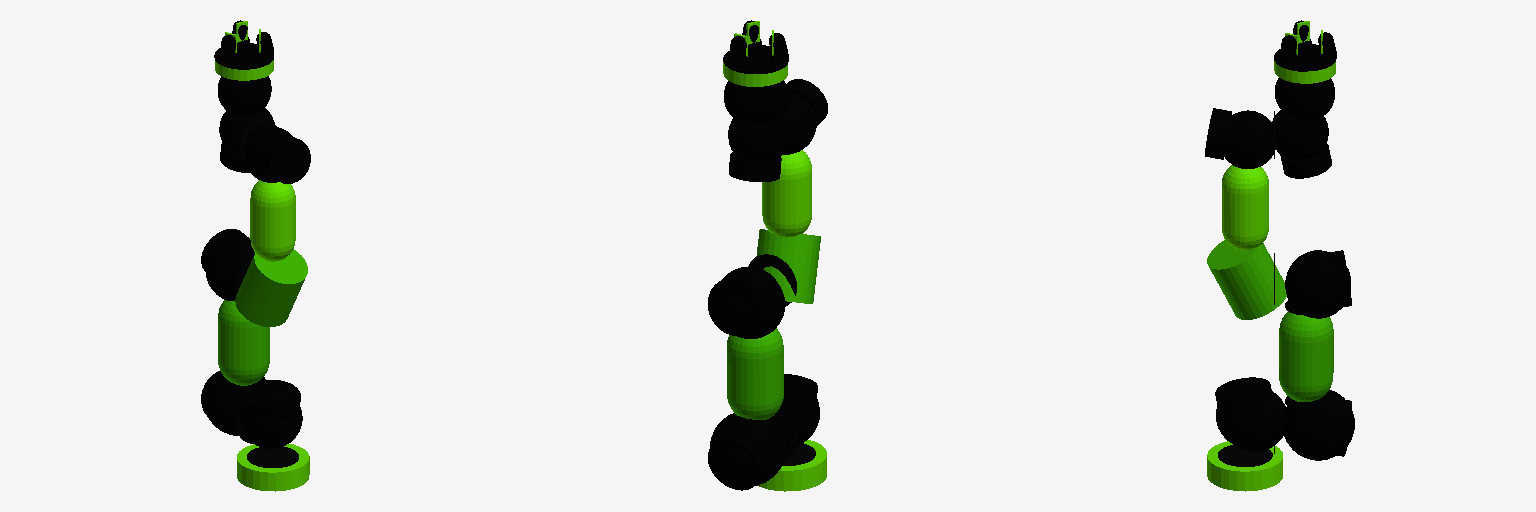
The robot description file, URDF, robot "DOC 5 assi · EB-15 + EBG-30":
<?xml version="1.0"?>
<!-- Generato da hardware/modello_doc5/genera_modello.py: non modificare a mano. -->
<robot name="DOC 5 assi · EB-15 + EBG-30">
  <link name="world" />
  <link name="base_link">
    <visual>
      <origin xyz="0 0 0" rpy="0 0 0" />
      <geometry><mesh filename="meshes/base_link_guarnizione.stl" /></geometry>
      <material name="doc_base_link_guarnizione"><color rgba="0.035 0.04 0.036 1" /></material>
    </visual>
    <visual>
      <origin xyz="0 0 0" rpy="0 0 0" />
      <geometry><mesh filename="meshes/base_link_lime.stl" /></geometry>
      <material name="doc_base_link_lime"><color rgba="0.4 0.88 0.012 1" /></material>
    </visual>
  </link>
  <link name="link_1">
    <visual>
      <origin xyz="0 0 0" rpy="0 0 0" />
      <geometry><mesh filename="meshes/link_1_nero.stl" /></geometry>
      <material name="doc_link_1_nero"><color rgba="0.018 0.022 0.018 1" /></material>
    </visual>
    <visual>
      <origin xyz="0 0 0" rpy="0 0 0" />
      <geometry><mesh filename="meshes/link_1_guarnizione.stl" /></geometry>
      <material name="doc_link_1_guarnizione"><color rgba="0.035 0.04 0.036 1" /></material>
    </visual>
  </link>
  <link name="link_2">
    <visual>
      <origin xyz="0 0 0" rpy="0 0 0" />
      <geometry><mesh filename="meshes/link_2_nero.stl" /></geometry>
      <material name="doc_link_2_nero"><color rgba="0.018 0.022 0.018 1" /></material>
    </visual>
    <visual>
      <origin xyz="0 0 0" rpy="0 0 0" />
      <geometry><mesh filename="meshes/link_2_guarnizione.stl" /></geometry>
      <material name="doc_link_2_guarnizione"><color rgba="0.035 0.04 0.036 1" /></material>
    </visual>
    <visual>
      <origin xyz="0 0 0" rpy="0 0 0" />
      <geometry><mesh filename="meshes/link_2_verde.stl" /></geometry>
      <material name="doc_link_2_verde"><color rgba="0.25 0.7 0.02 1" /></material>
    </visual>
  </link>
  <link name="link_3">
    <visual>
      <origin xyz="0 0 0" rpy="0 0 0" />
      <geometry><mesh filename="meshes/link_3_nero.stl" /></geometry>
      <material name="doc_link_3_nero"><color rgba="0.018 0.022 0.018 1" /></material>
    </visual>
    <visual>
      <origin xyz="0 0 0" rpy="0 0 0" />
      <geometry><mesh filename="meshes/link_3_guarnizione.stl" /></geometry>
      <material name="doc_link_3_guarnizione"><color rgba="0.035 0.04 0.036 1" /></material>
    </visual>
    <visual>
      <origin xyz="0 0 0" rpy="0 0 0" />
      <geometry><mesh filename="meshes/link_3_verde.stl" /></geometry>
      <material name="doc_link_3_verde"><color rgba="0.25 0.7 0.02 1" /></material>
    </visual>
    <visual>
      <origin xyz="0 0 0" rpy="0 0 0" />
      <geometry><mesh filename="meshes/link_3_lime.stl" /></geometry>
      <material name="doc_link_3_lime"><color rgba="0.4 0.88 0.012 1" /></material>
    </visual>
  </link>
  <link name="link_4">
    <visual>
      <origin xyz="0 0 0" rpy="0 0 0" />
      <geometry><mesh filename="meshes/link_4_nero.stl" /></geometry>
      <material name="doc_link_4_nero"><color rgba="0.018 0.022 0.018 1" /></material>
    </visual>
  </link>
  <link name="link_5">
    <visual>
      <origin xyz="0 0 0" rpy="0 0 0" />
      <geometry><mesh filename="meshes/link_5_nero.stl" /></geometry>
      <material name="doc_link_5_nero"><color rgba="0.018 0.022 0.018 1" /></material>
    </visual>
    <visual>
      <origin xyz="0 0 0" rpy="0 0 0" />
      <geometry><mesh filename="meshes/link_5_lime.stl" /></geometry>
      <material name="doc_link_5_lime"><color rgba="0.4 0.88 0.012 1" /></material>
    </visual>
  </link>
  <link name="lab_finger_1">
    <visual>
      <origin xyz="0 0 0" rpy="0 0 0" />
      <geometry><mesh filename="meshes/lab_finger_1_nero.stl" /></geometry>
      <material name="doc_lab_finger_1_nero"><color rgba="0.018 0.022 0.018 1" /></material>
    </visual>
    <visual>
      <origin xyz="0 0 0" rpy="0 0 0" />
      <geometry><mesh filename="meshes/lab_finger_1_lime.stl" /></geometry>
      <material name="doc_lab_finger_1_lime"><color rgba="0.4 0.88 0.012 1" /></material>
    </visual>
  </link>
  <link name="lab_finger_2">
    <visual>
      <origin xyz="0 0 0" rpy="0 0 0" />
      <geometry><mesh filename="meshes/lab_finger_2_nero.stl" /></geometry>
      <material name="doc_lab_finger_2_nero"><color rgba="0.018 0.022 0.018 1" /></material>
    </visual>
    <visual>
      <origin xyz="0 0 0" rpy="0 0 0" />
      <geometry><mesh filename="meshes/lab_finger_2_lime.stl" /></geometry>
      <material name="doc_lab_finger_2_lime"><color rgba="0.4 0.88 0.012 1" /></material>
    </visual>
  </link>
  <link name="lab_finger_3">
    <visual>
      <origin xyz="0 0 0" rpy="0 0 0" />
      <geometry><mesh filename="meshes/lab_finger_3_nero.stl" /></geometry>
      <material name="doc_lab_finger_3_nero"><color rgba="0.018 0.022 0.018 1" /></material>
    </visual>
    <visual>
      <origin xyz="0 0 0" rpy="0 0 0" />
      <geometry><mesh filename="meshes/lab_finger_3_lime.stl" /></geometry>
      <material name="doc_lab_finger_3_lime"><color rgba="0.4 0.88 0.012 1" /></material>
    </visual>
  </link>
  <link name="tool0" />
  <link name="tcp_link" />
  <joint name="base_joint" type="fixed">
    <parent link="world" />
    <child link="base_link" />
    <origin xyz="0 0 0" rpy="0 0 0" />
  </joint>
  <joint name="joint_1" type="revolute">
    <parent link="base_link" />
    <child link="link_1" />
    <origin xyz="0 0 0.0308" rpy="0 0 0" />
    <axis xyz="0 0 1" />
    <limit lower="-3.14159" upper="3.14159" effort="10" velocity="1" />
  </joint>
  <joint name="joint_2" type="revolute">
    <parent link="link_1" />
    <child link="link_2" />
    <origin xyz="0 0.0408 0.043" rpy="0 0 0" />
    <axis xyz="0 1 0" />
    <limit lower="-3.14159" upper="3.14159" effort="10" velocity="1" />
  </joint>
  <joint name="joint_3" type="revolute">
    <parent link="link_2" />
    <child link="link_3" />
    <origin xyz="0 0 0.222" rpy="0 0 0" />
    <axis xyz="0 1 0" />
    <limit lower="-3.14159" upper="3.14159" effort="10" velocity="1" />
  </joint>
  <joint name="joint_4" type="revolute">
    <parent link="link_3" />
    <child link="link_4" />
    <origin xyz="0 -0.0008 0.221" rpy="0 0 0" />
    <axis xyz="0 1 0" />
    <limit lower="-3.14159" upper="3.14159" effort="10" velocity="1" />
  </joint>
  <joint name="joint_5" type="revolute">
    <parent link="link_4" />
    <child link="link_5" />
    <origin xyz="0 0.0428 0.04" rpy="0 0 0" />
    <axis xyz="0 0 1" />
    <limit lower="-3.14159" upper="3.14159" effort="10" velocity="1" />
  </joint>
  <joint name="flangia" type="fixed">
    <parent link="link_5" />
    <child link="tool0" />
    <origin xyz="0 0 0.0008" rpy="0 0 0" />
  </joint>
  <joint name="lab_finger_1_joint" type="prismatic">
    <parent link="link_5" />
    <child link="lab_finger_1" />
    <origin xyz="0 0 0" rpy="0 0 0" />
    <axis xyz="-0.861934 0.50702 -0" />
    <limit lower="0" upper="0.012" effort="10" velocity="1" />
    <mimic joint="joint_5" multiplier="0" offset="0" />
  </joint>
  <joint name="lab_finger_2_joint" type="prismatic">
    <parent link="link_5" />
    <child link="lab_finger_2" />
    <origin xyz="0 0 0" rpy="0 0 0" />
    <axis xyz="-0.008125 -0.999967 -0" />
    <limit lower="0" upper="0.012" effort="10" velocity="1" />
    <mimic joint="joint_5" multiplier="0" offset="0" />
  </joint>
  <joint name="lab_finger_3_joint" type="prismatic">
    <parent link="link_5" />
    <child link="lab_finger_3" />
    <origin xyz="0 0 0" rpy="0 0 0" />
    <axis xyz="0.870059 0.492947 -0" />
    <limit lower="0" upper="0.012" effort="10" velocity="1" />
    <mimic joint="joint_5" multiplier="0" offset="0" />
  </joint>
  <joint name="tcp_fisso" type="fixed">
    <parent link="tool0" />
    <child link="tcp_link" />
    <origin xyz="0 0 0.099" rpy="0 0 0" />
  </joint>
  <robot_console reference="doc5-presentation" tip="tcp_link" gripper_joints="lab_finger_1_joint lab_finger_2_joint lab_finger_3_joint" gripper_travel="0.012" nominal_home="0 0 0 0 0" />
</robot>

--- What the picture shows (computed from the rendered views, not written in the file) ---
3 views of the same robot in one strip: view 1: azimuth 30°, elevation 25°; view 2: azimuth 150°, elevation 25°; view 3: azimuth 270°, elevation 25° (orthographic).
Robot: DOC 5 assi · EB-15 + EBG-30 — 12 links, 11 joints (5 revolute, 3 prismatic, 3 fixed); root link world; default pose: every joint at zero.
Links seen in each view (by area): view 1: link_3, link_2, link_1, link_5, base_link, link_4; view 2: link_2, link_3, link_5, link_4, link_1, base_link, lab_finger_2; view 3: link_2, link_3, link_1, link_5, link_4, base_link, lab_finger_1.
Link boxes in pixels (x1,y1,x2,y2): link_3: (235, 119, 310, 326); link_2: (201, 229, 269, 435); link_1: (236, 380, 302, 448); link_5: (214, 43, 273, 115); base_link: (237, 444, 309, 491); link_4: (219, 108, 274, 172); link_2: (708, 254, 796, 490); link_3: (756, 79, 827, 303); link_5: (723, 45, 788, 125); link_4: (728, 114, 789, 181); link_1: (775, 374, 819, 460); base_link: (758, 440, 826, 491); lab_finger_2: (728, 33, 749, 67); link_2: (1274, 250, 1354, 460); link_3: (1205, 108, 1286, 319); link_1: (1215, 377, 1285, 453); link_5: (1274, 44, 1336, 120); link_4: (1272, 110, 1331, 178); base_link: (1207, 441, 1282, 491); lab_finger_1: (1279, 33, 1299, 65).
Size in the robot's own frame: 0.105 by 0.2067 by 0.6756 metres.
Meshes: 20 distinct files referenced, 20 mesh visuals loaded (20 binary STL).
